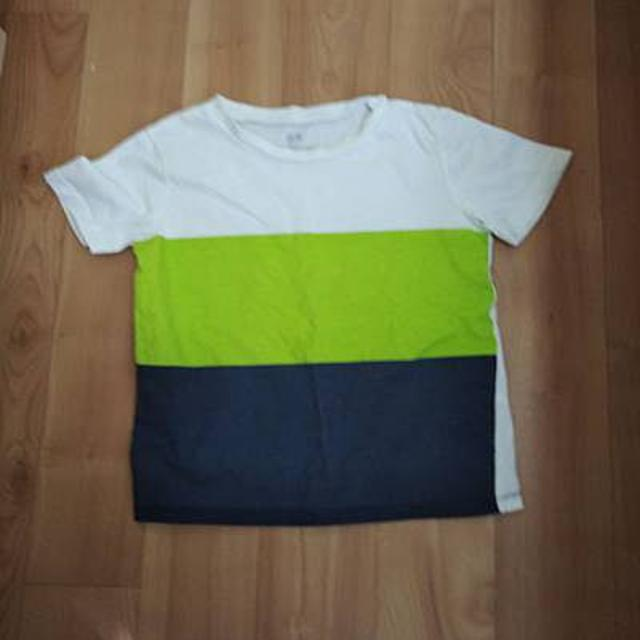T_SHIRT: (36, 90, 586, 540)
